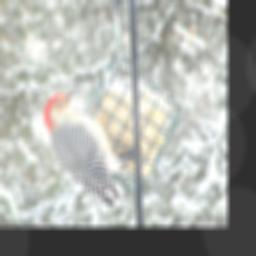Woodpecker: (44, 86, 138, 207)
